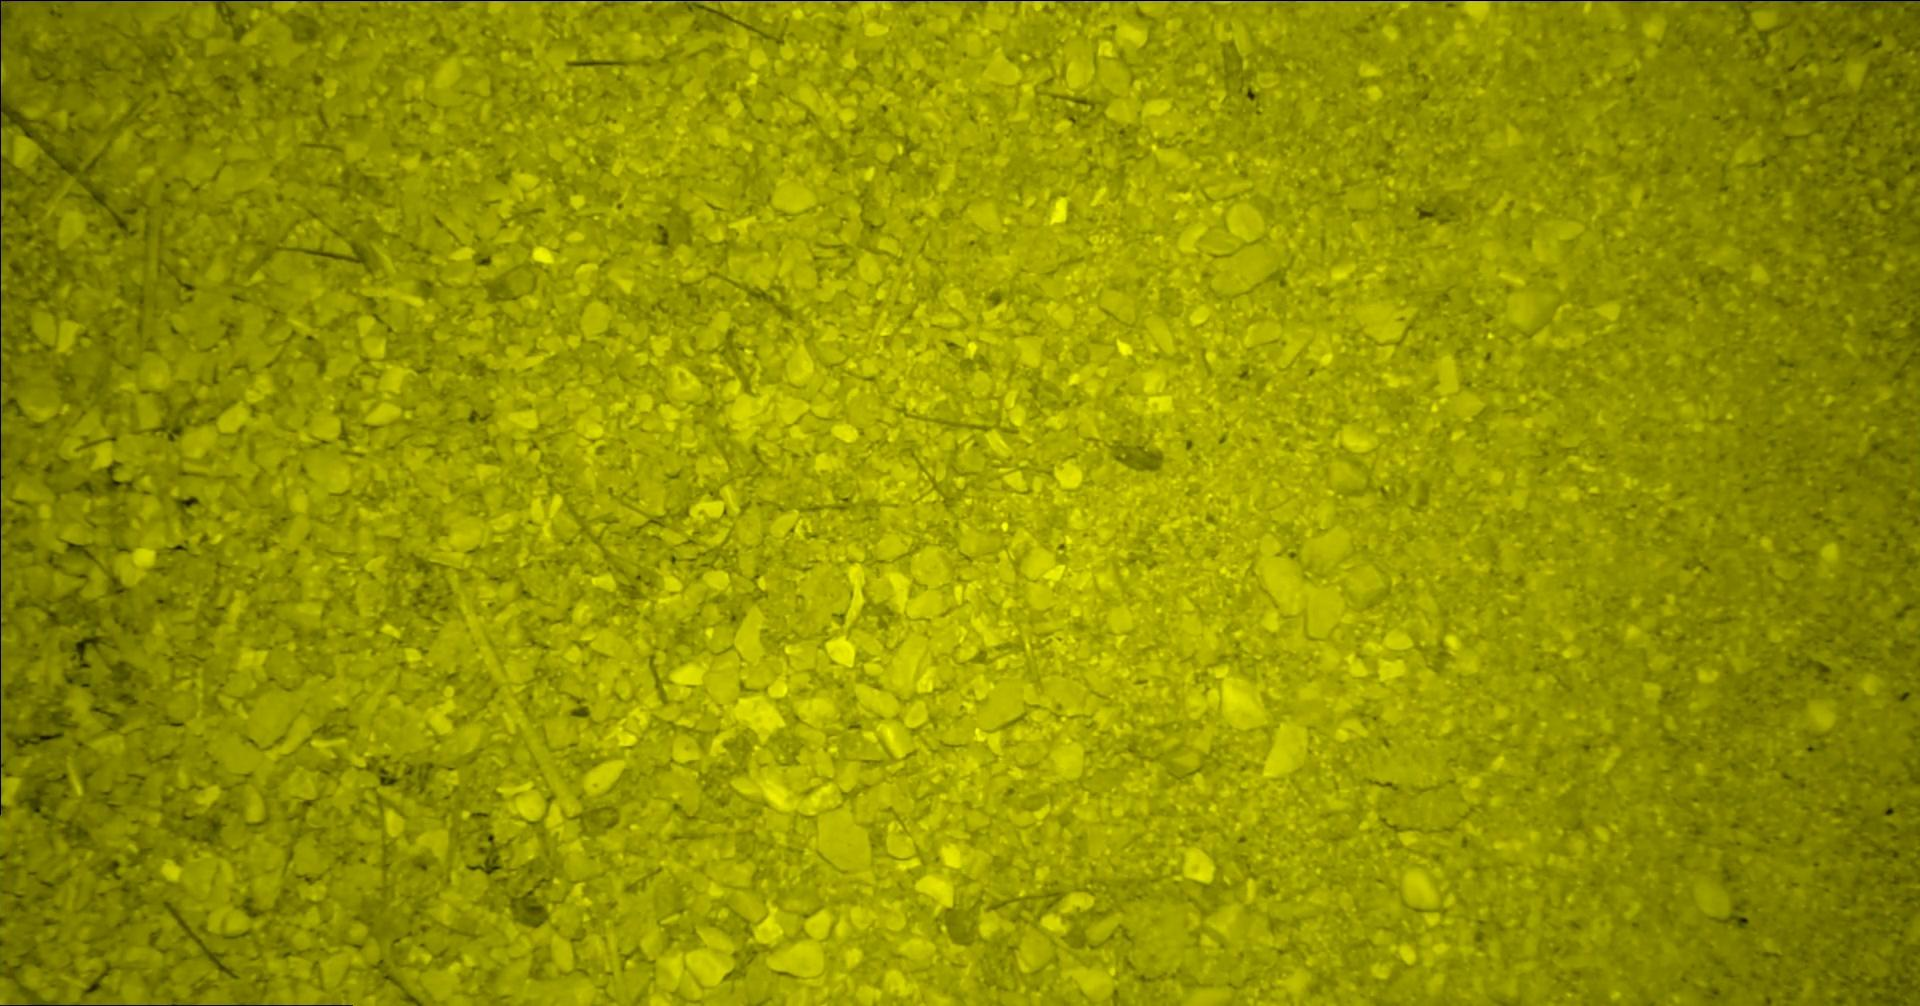ant: (0, 0, 27, 29), (1829, 0, 1919, 1)
